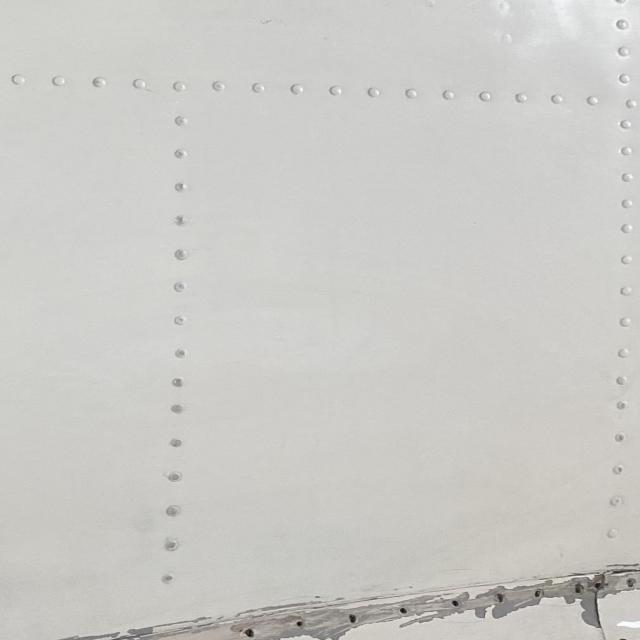Missing-head: (569, 580, 591, 597), (396, 604, 412, 619), (345, 612, 362, 625), (292, 617, 310, 629), (450, 596, 464, 611), (531, 587, 544, 602), (619, 637, 626, 640)
Paint-off: (576, 596, 603, 632)
Scratch: (23, 562, 640, 640)
